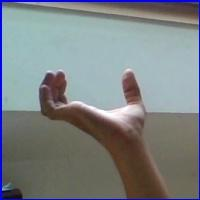B: (30, 62, 152, 158)
